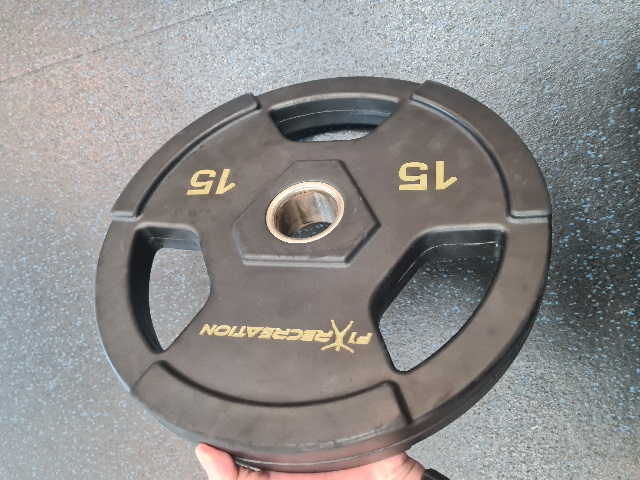weights: (92, 74, 551, 473)
